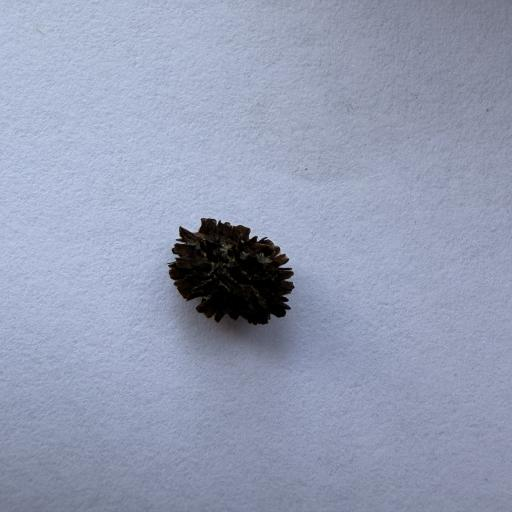papaya_seed: (148, 202, 346, 343)
